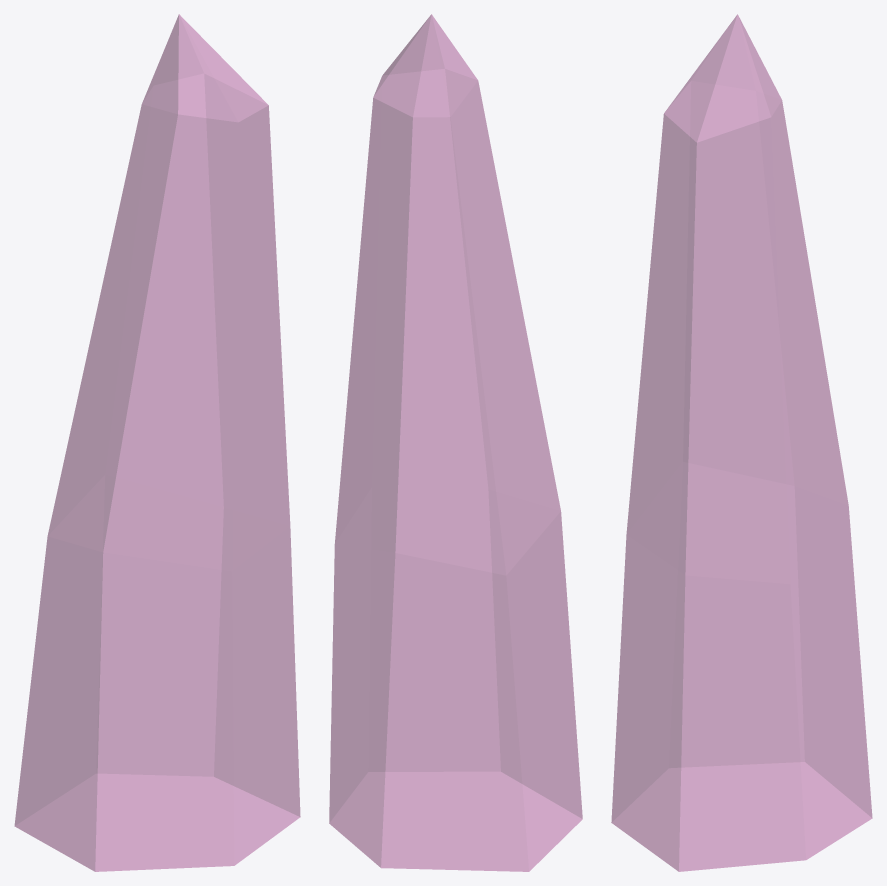
The model's file is Crystal2.fbx.
3 views of the same model, side by side, from view 1: azimuth 30°, elevation 25°; view 2: azimuth 150°, elevation 25°; view 3: azimuth 270°, elevation 25° (orthographic).
Visible parts, largest first — view 1: Crystal2; view 2: Crystal2; view 3: Crystal2.
Boxes of the visible parts, x1,y1,x2,y2 form: Crystal2: [14, 14, 300, 871]; Crystal2: [329, 14, 582, 871]; Crystal2: [611, 14, 872, 871].
Bounding box in the file's own units: 0.506 × 1.74 × 0.5065.
